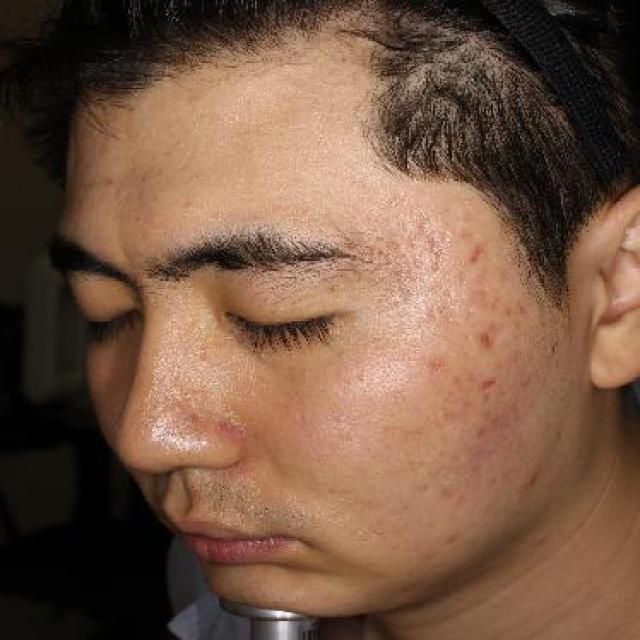darkspot: (456, 242, 492, 266), (472, 328, 501, 351), (473, 374, 502, 392)
nodules: (517, 468, 543, 494)
